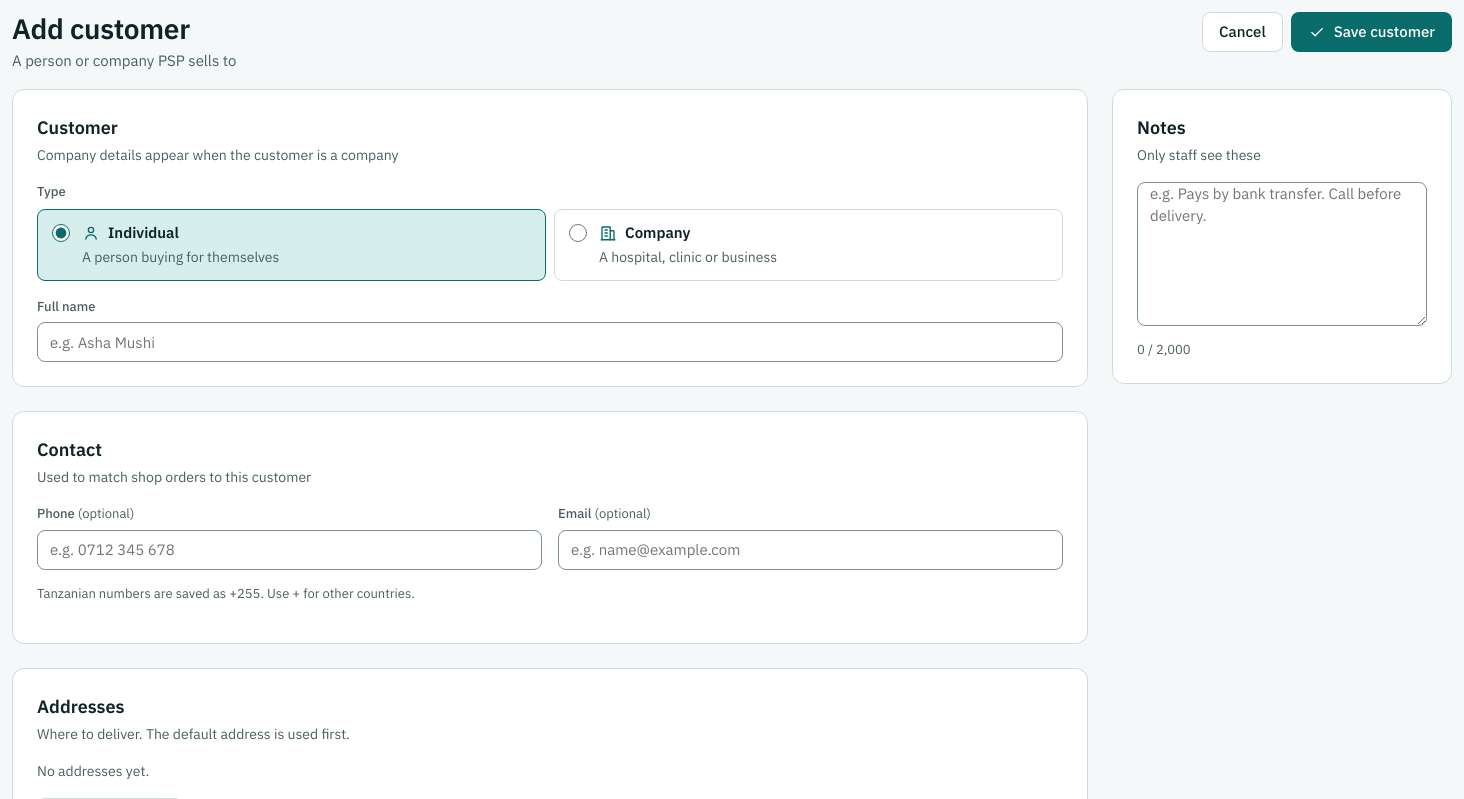
Test case: AddCustomer › shows company fields only when the type is company
Expected: the radio button labelled "Individual A person buying for themselves" is checked, [52, 224, 70, 242]
Expected: the field labelled "Full name" is shown, [37, 322, 1063, 362]
Click the radio button labelled "Company A hospital, clinic or business". click: (578, 233)
box: [569, 224, 587, 242]
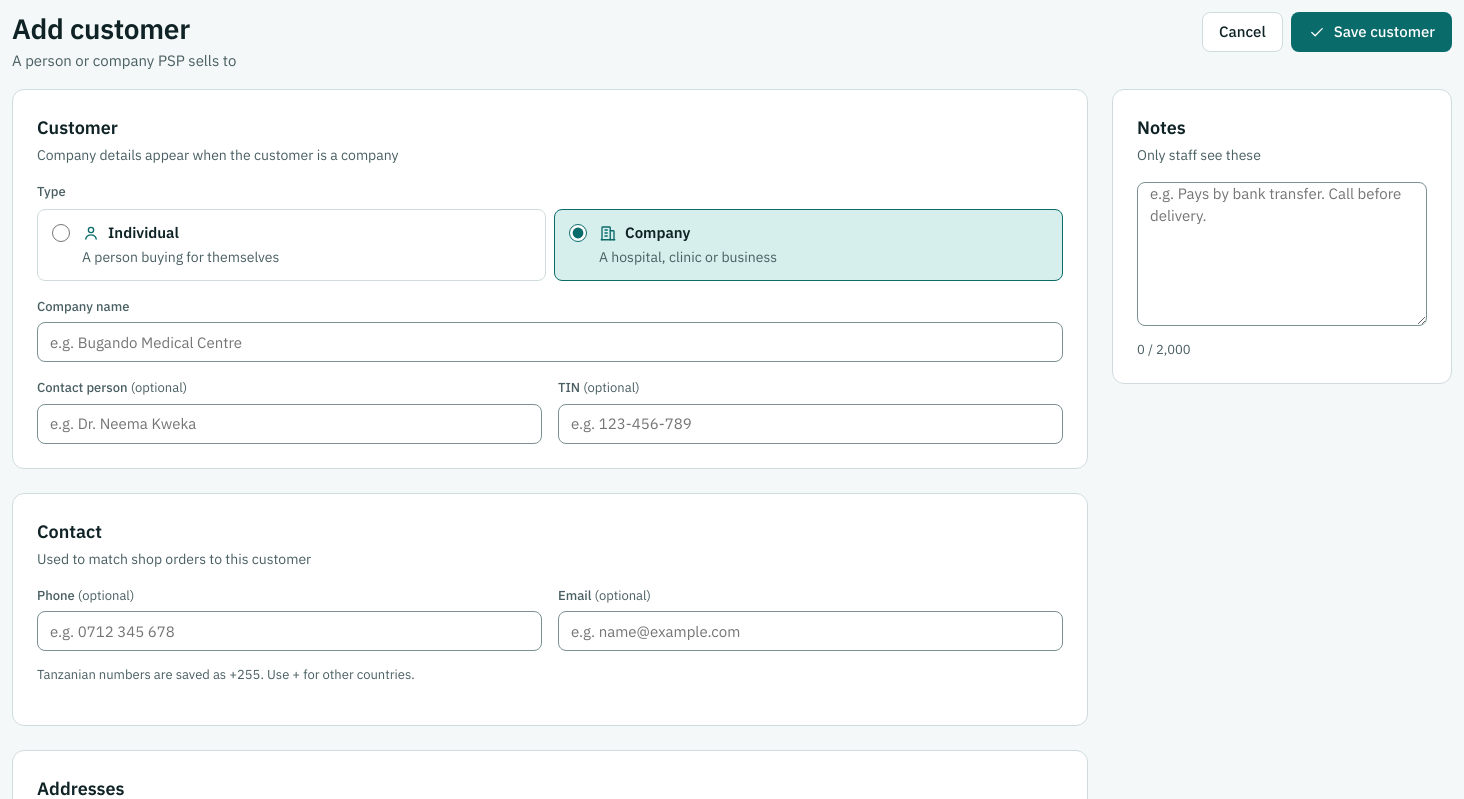
Expected: the field labelled "Company name" is shown, [37, 322, 1063, 362]
Expected: the field labelled "TIN (optional)" is shown, [558, 404, 1063, 444]
Expected: the field labelled "Contact person (optional)" is shown, [37, 404, 542, 444]
